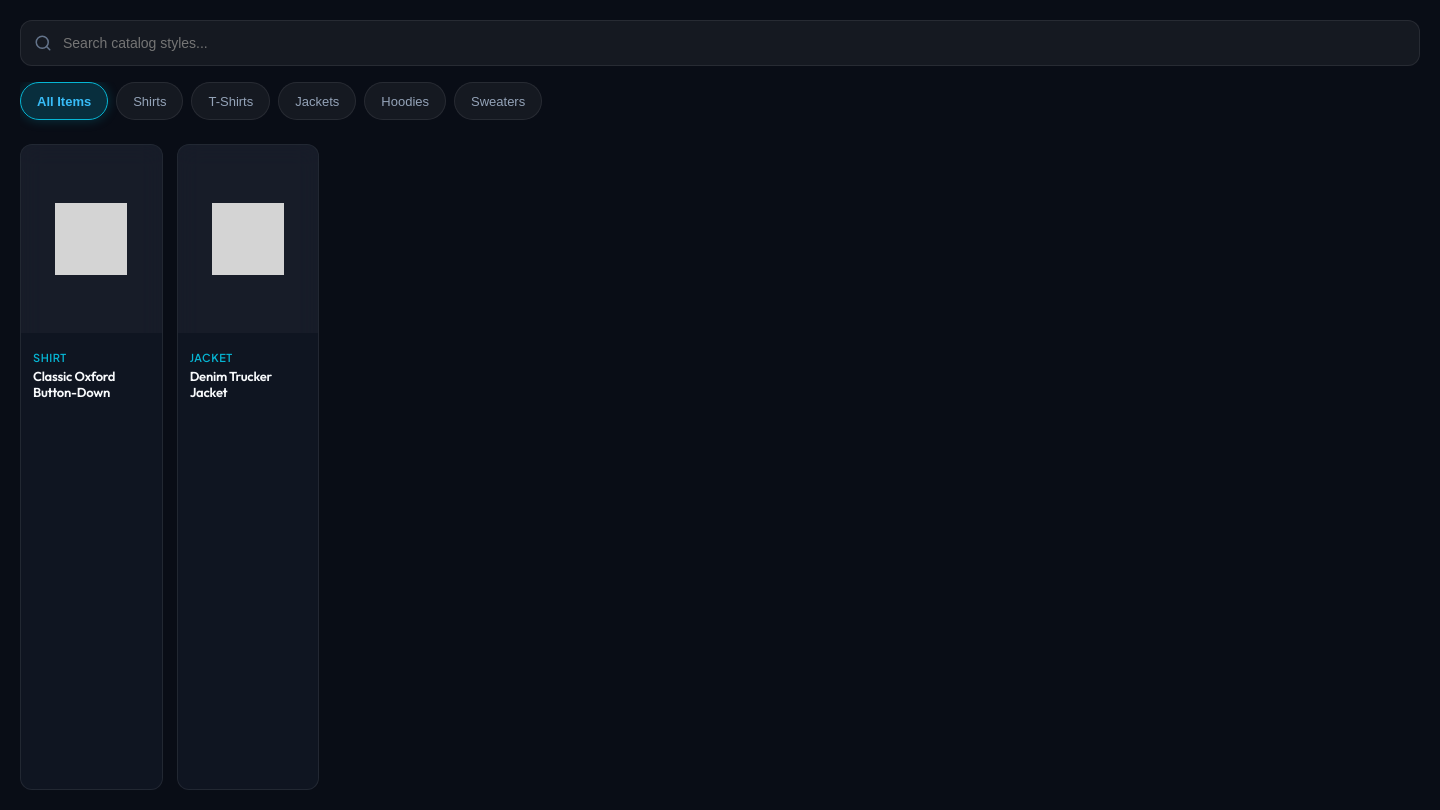
Test: CatalogDrawer Component › filters garments by category
The image size is (1440, 810).
# Filter by Jackets
Click the button "Jackets".
click(317, 101)  # box top-left (278, 82), bottom-right (356, 120)
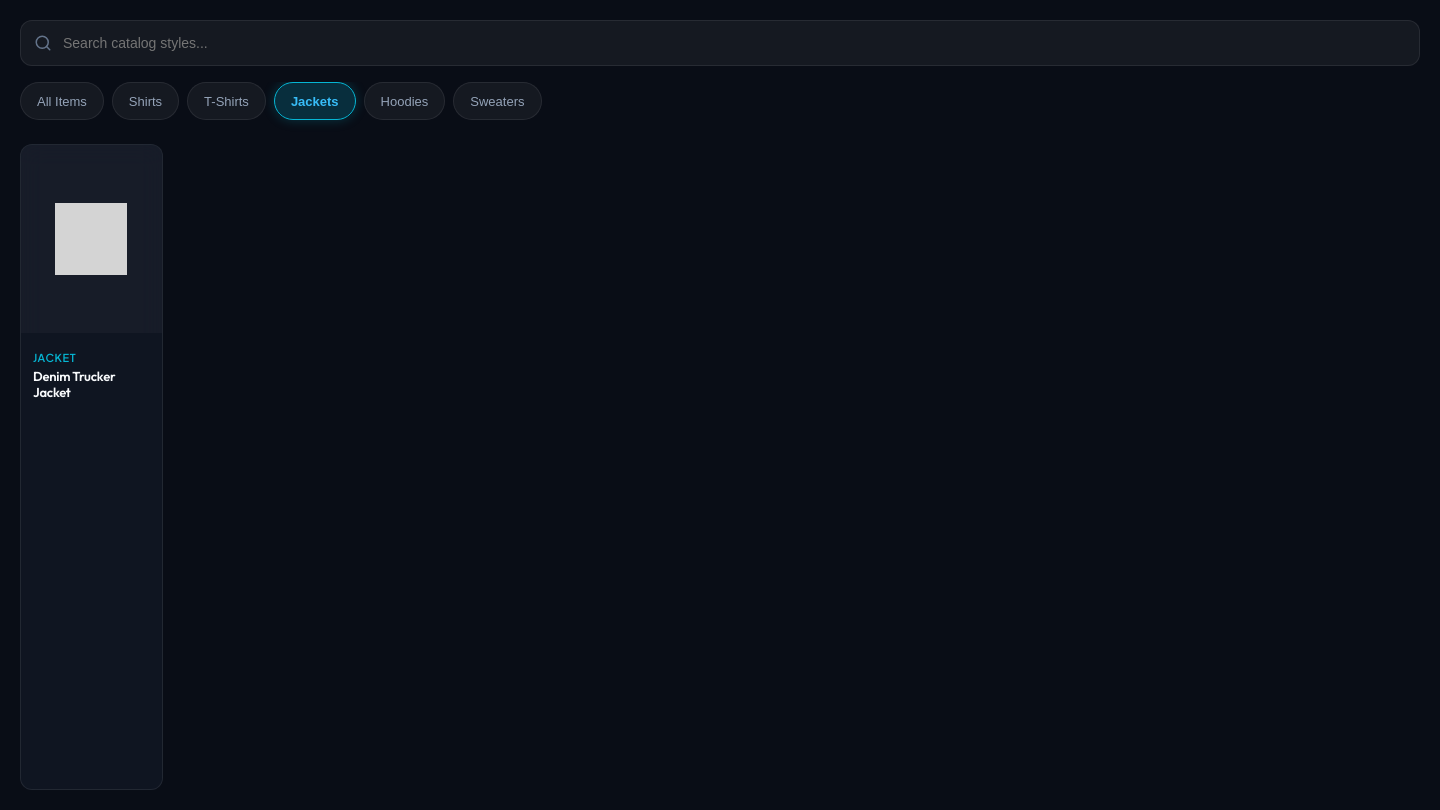
Expected: the heading "Denim Trucker Jacket" is shown, top-left (33, 368), bottom-right (115, 400)
Now the heading "Classic Oxford Button-Down" is gone
